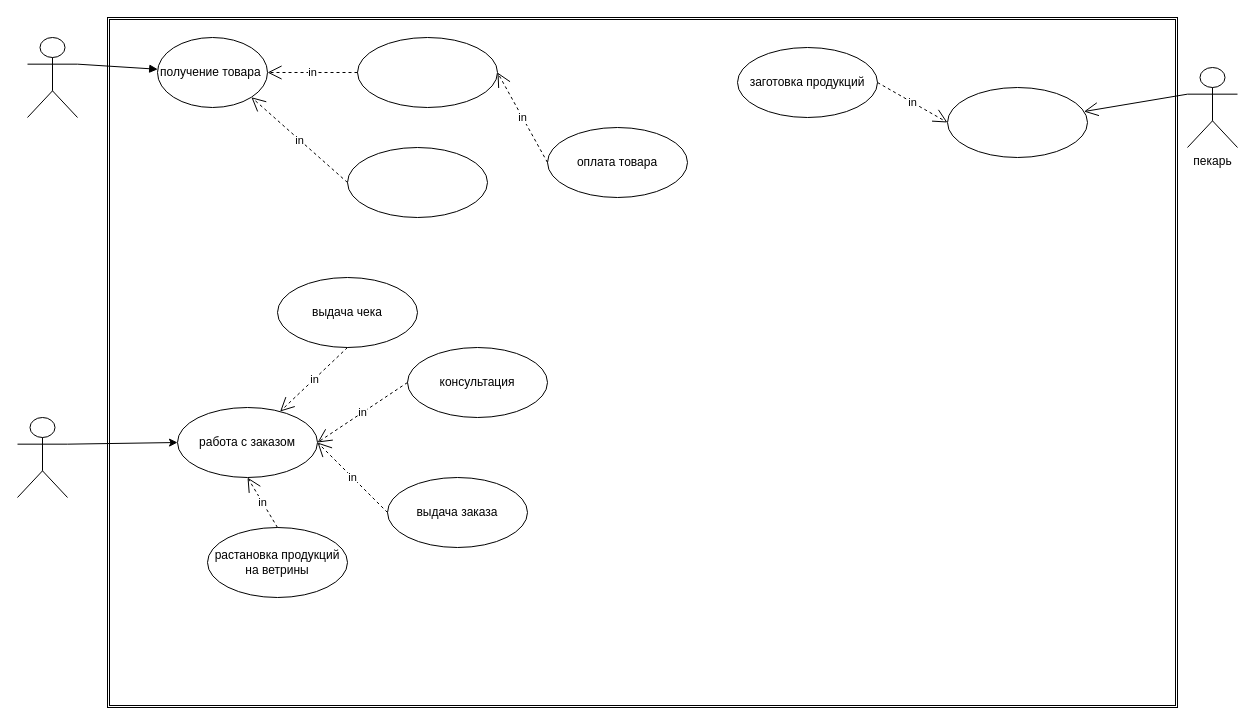
The diagram is 1255 pixels wide and 725 high, and some of its shapes have lost their labels. The centre of each missing label's shape, as x and y in pixels:
выбор товара: (x=427, y=72)
касир: (x=42, y=457)
покупатель: (x=52, y=77)
получение чека: (x=417, y=182)
приготовление заказа: (x=1017, y=122)
